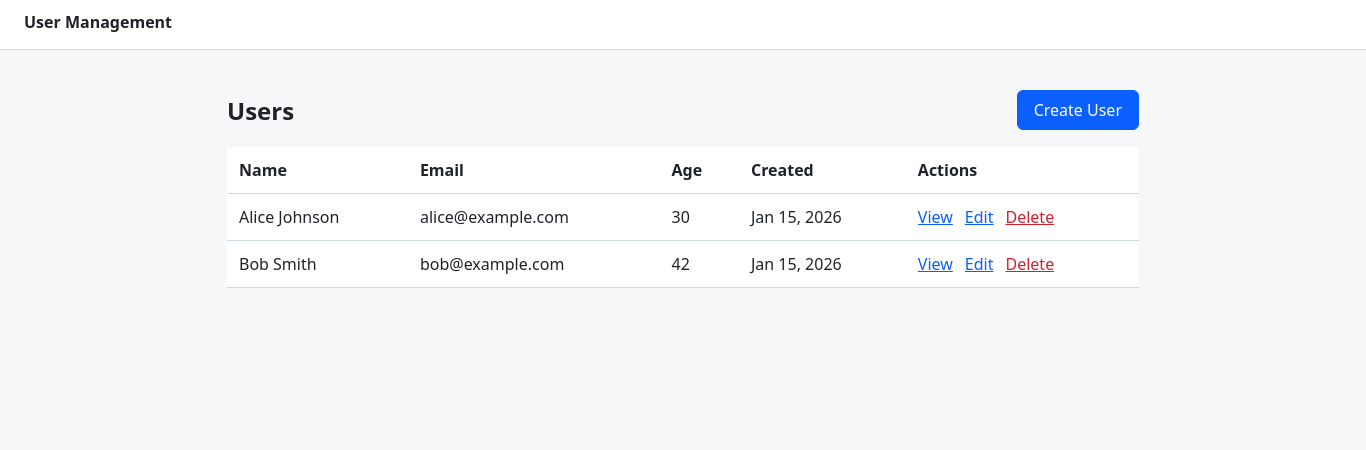
Users list page › takes the user to the create form
This screenshot has width=1366, height=450.
Click the link "Create User" at [1078, 110], box [1017,90,1139,130]
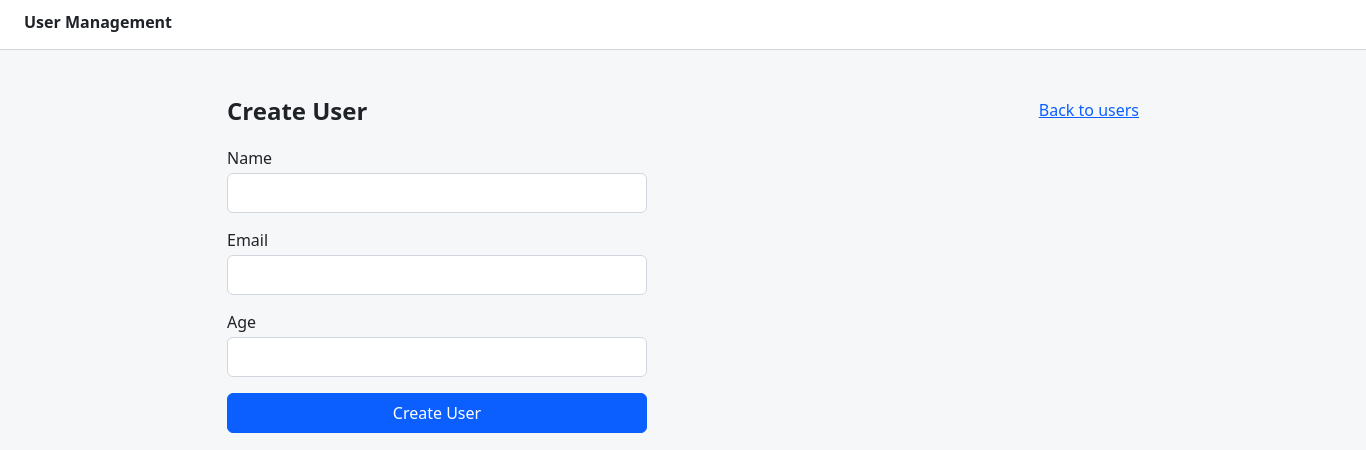
Now the heading "Create User" is shown, box [227,94,367,127]
